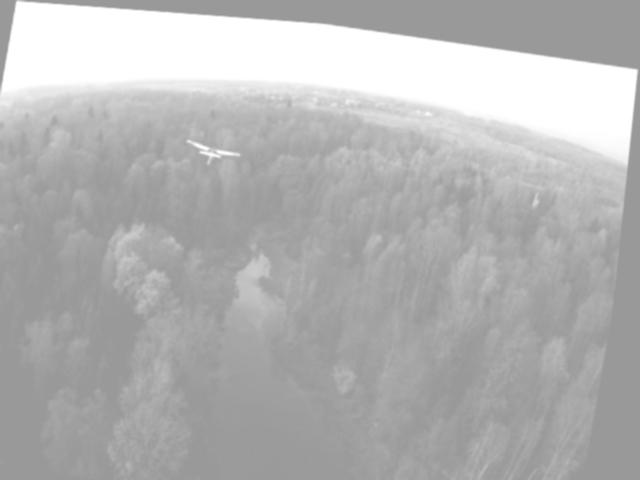hedef: (181, 132, 256, 166)
